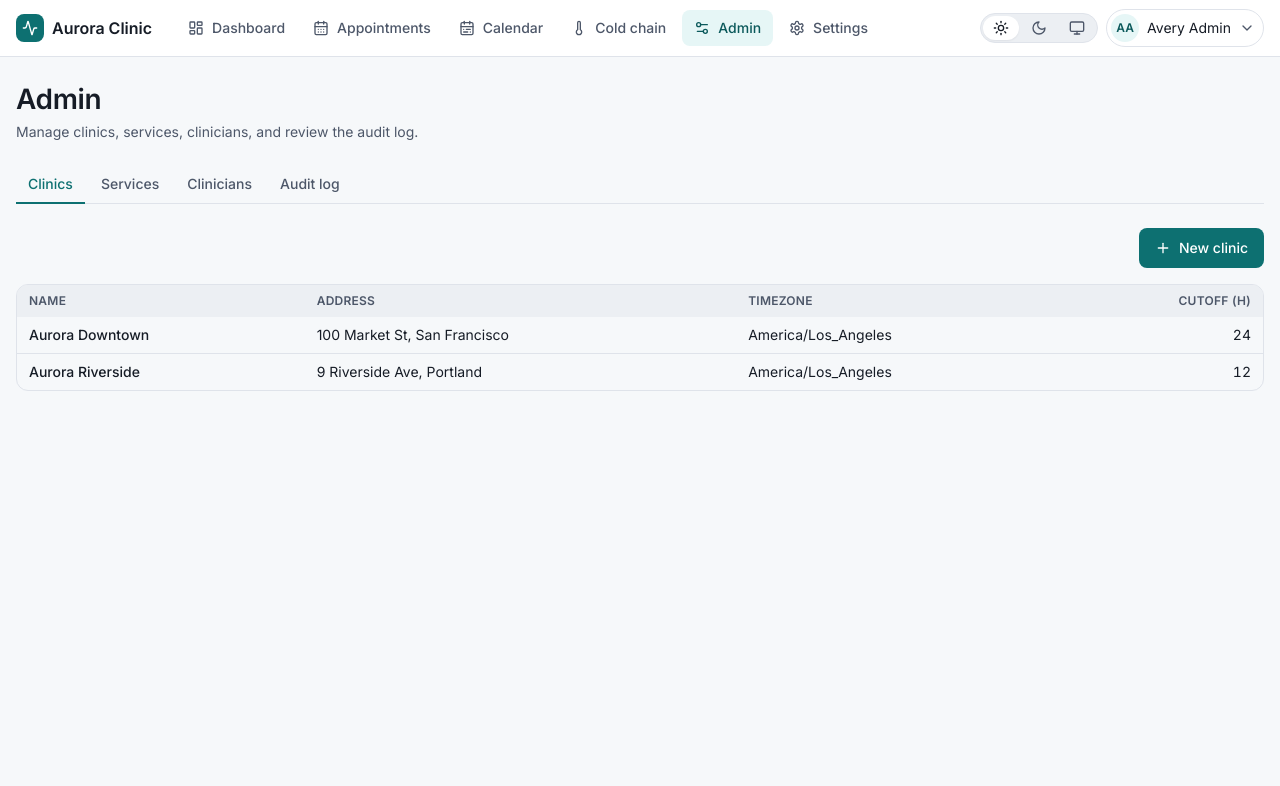
Test: clinics admin › shows client-side validation errors from Zod
Click the button "New clinic".
click(1201, 248)  # box x1=1139 y1=228 x2=1264 y2=268
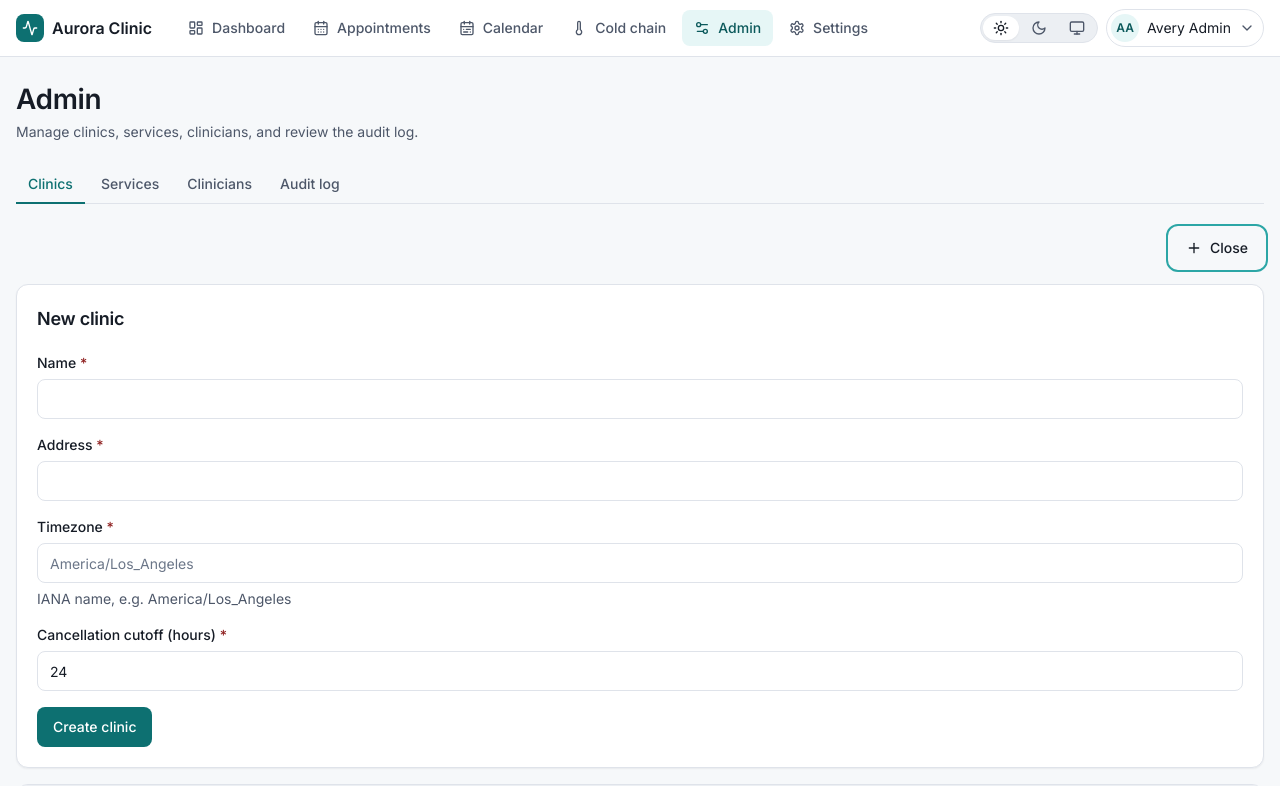
Click the button "Create clinic".
click(95, 727)  # box x1=37 y1=707 x2=152 y2=747
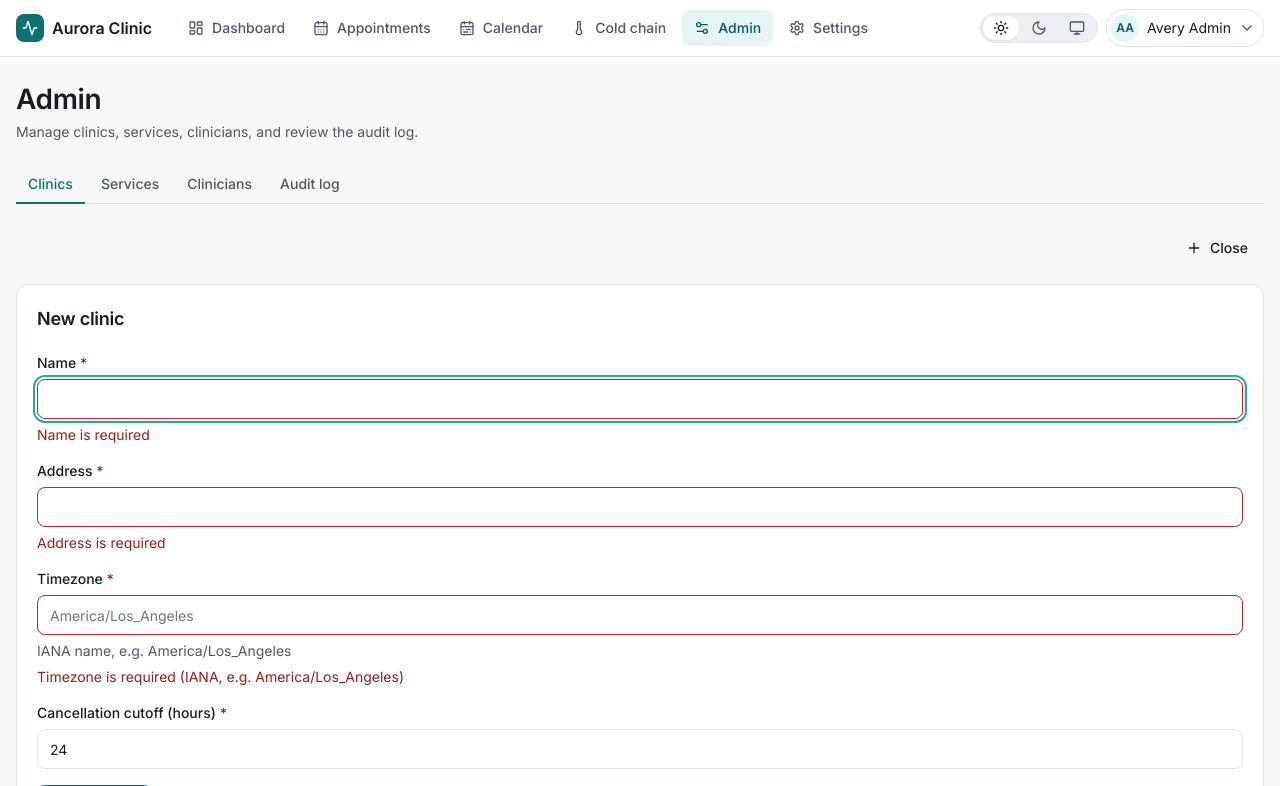
Check: the text "Name is required" is shown, box x1=37 y1=426 x2=150 y2=443
